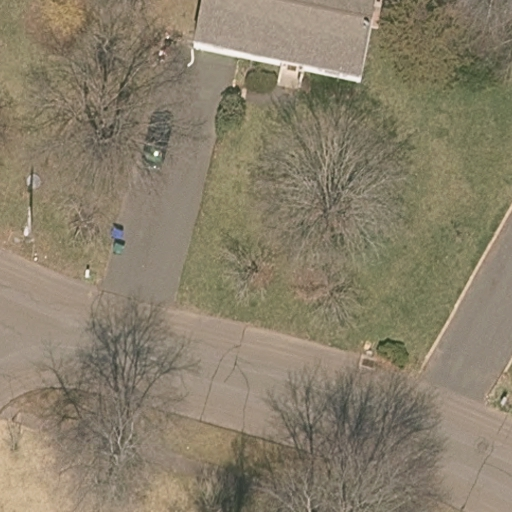DT: (21, 165, 40, 246)
